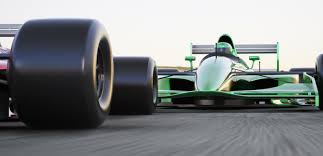f1_car: (133, 31, 323, 118)
